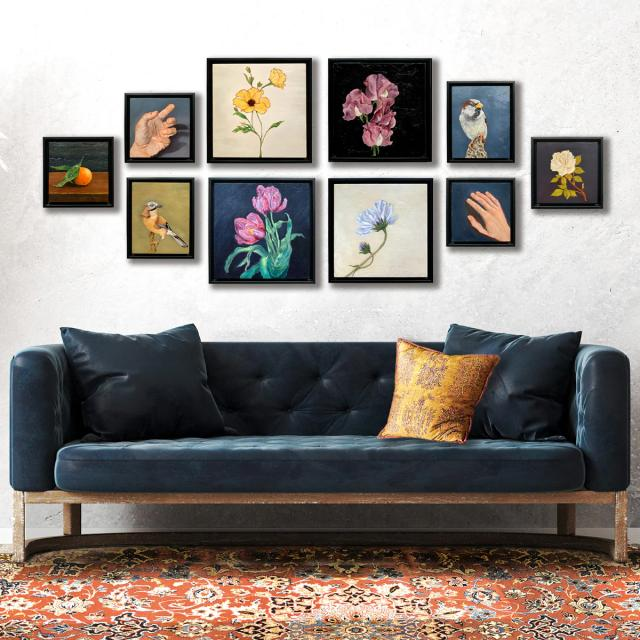painting: (206, 56, 311, 163), (209, 179, 315, 282), (329, 58, 433, 162), (328, 179, 432, 283), (128, 179, 195, 259), (448, 82, 515, 162), (124, 93, 195, 163), (43, 138, 114, 208), (446, 178, 517, 248), (532, 138, 602, 208)
